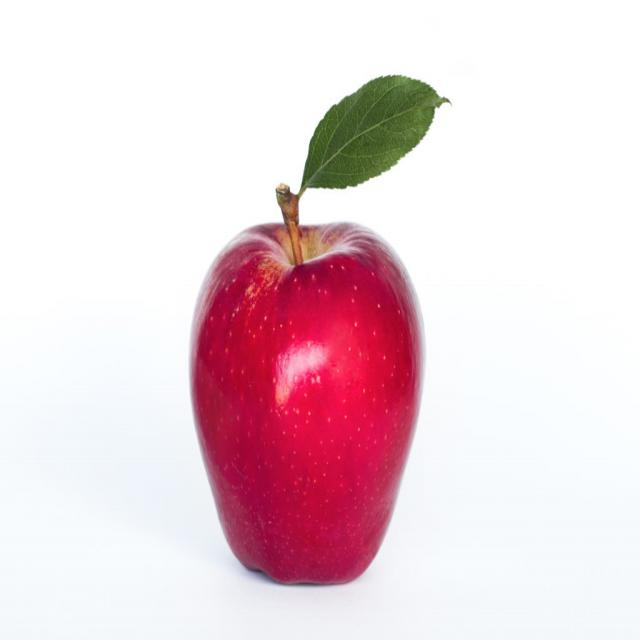Apple: (182, 72, 432, 586)
